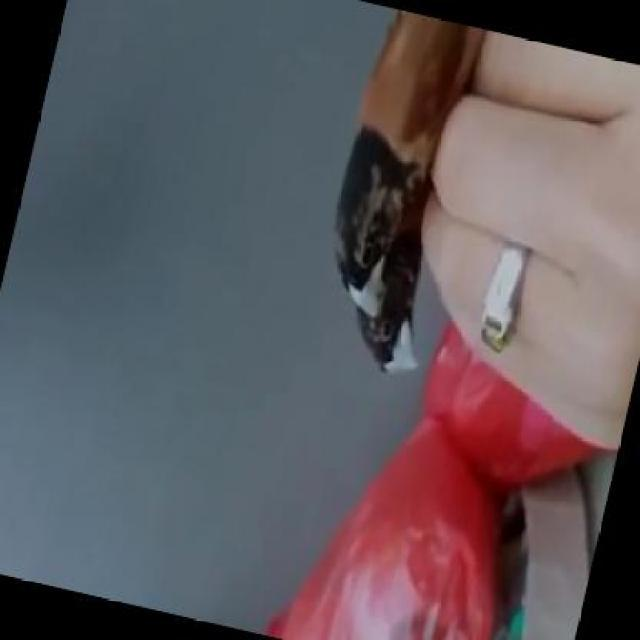Bird: (330, 14, 466, 379)
